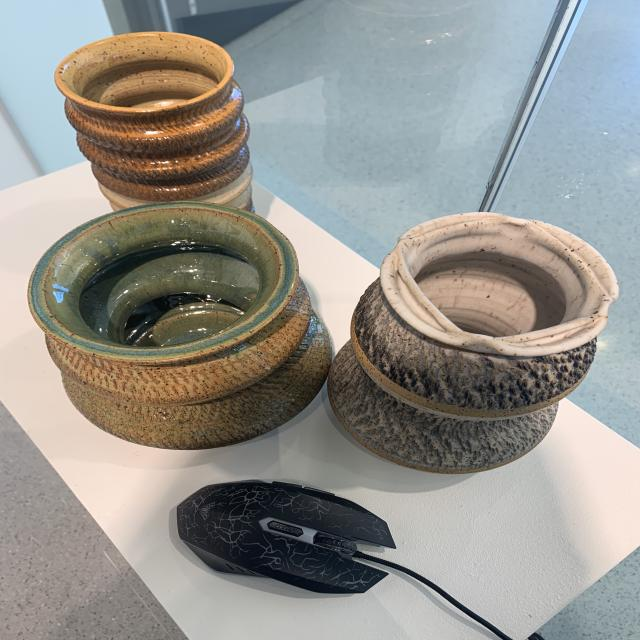Mouse: (167, 473, 419, 600)
